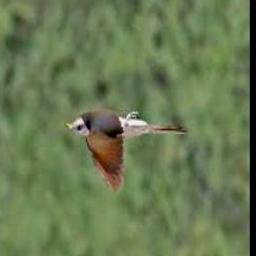Cuckoo: (66, 111, 187, 194)
